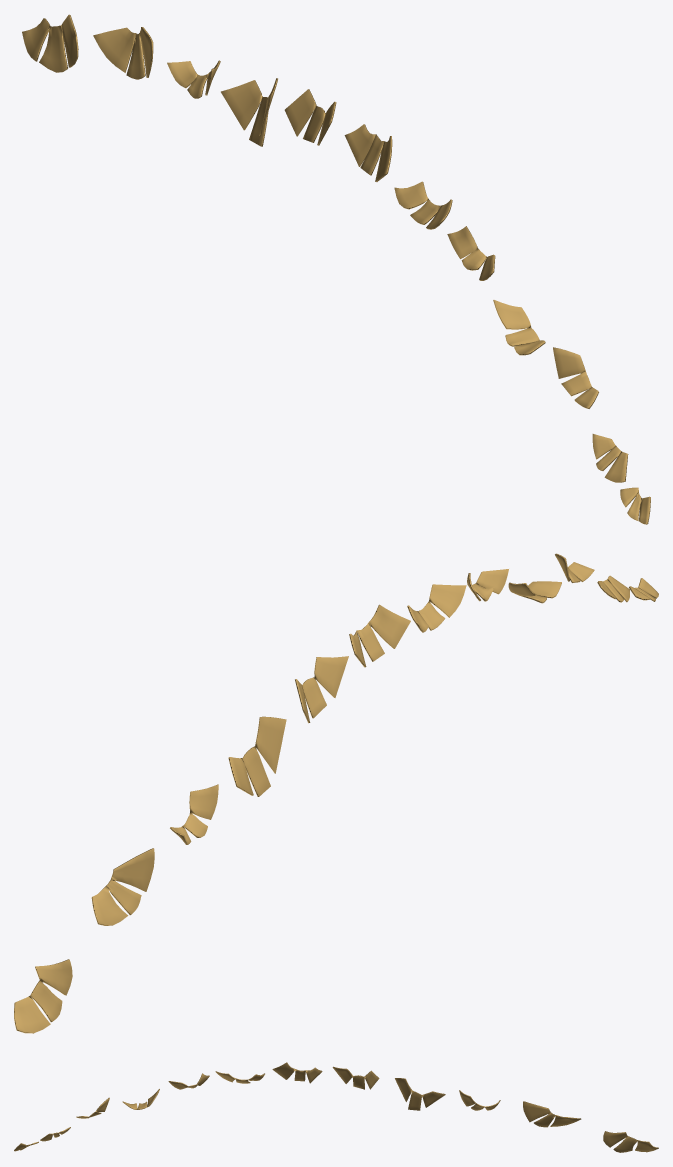
3 renders of one model, top to bottom at view 1: azimuth 30°, elevation 25°; view 2: azimuth 150°, elevation 25°; view 3: azimuth 270°, elevation 25°, orthographic. The views are drawn at different scales.
Visible parts, largest first — view 1: 左侧肋头辐状韧带; view 2: 左侧肋头辐状韧带; view 3: 左侧肋头辐状韧带.
Boxes of the visible parts, x1,y1,x2,y2 form: 左侧肋头辐状韧带: (22,14,650,524); 左侧肋头辐状韧带: (14,553,658,1033); 左侧肋头辐状韧带: (14,1062,658,1152).
Size of the model in its own units: 0.0186 by 0.0716 by 0.4492.
